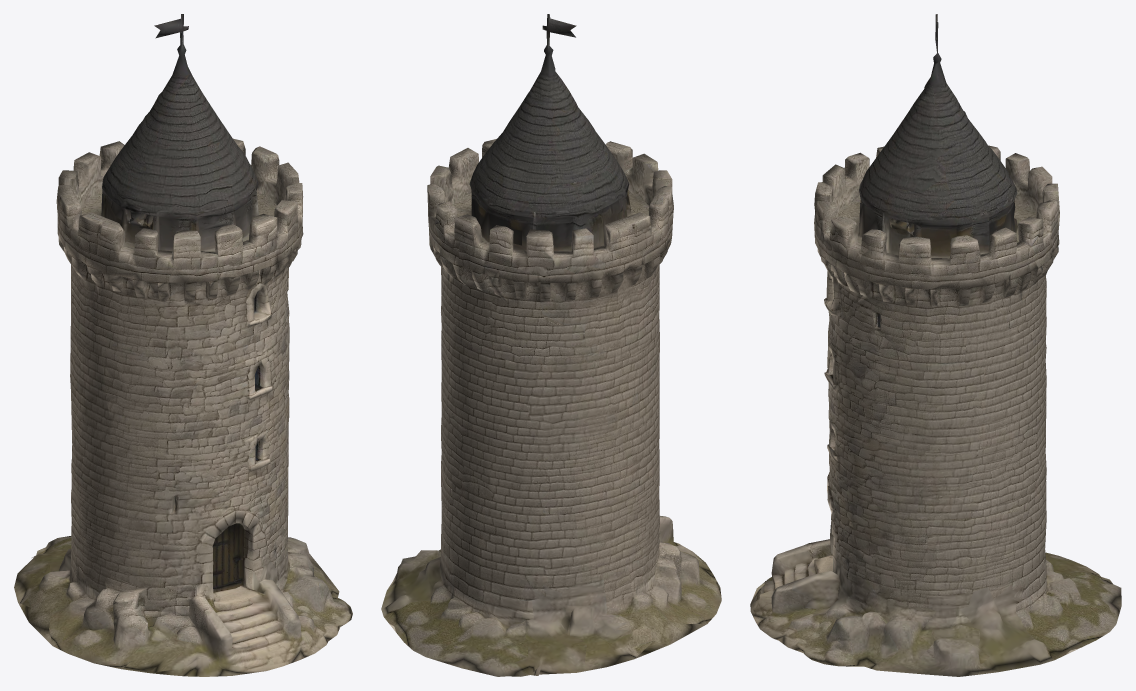
The model's file is poi_tower.glb.
3 views of the same model, side by side, from view 1: azimuth 30°, elevation 25°; view 2: azimuth 150°, elevation 25°; view 3: azimuth 270°, elevation 25° (orthographic).
Parts seen in each view (by area): view 1: Mesh_0; view 2: Mesh_0; view 3: Mesh_0.
Part boxes in pixels (x1,y1,x2,y2): Mesh_0: (14,14,352,676); Mesh_0: (381,14,721,676); Mesh_0: (750,14,1121,676).
Bounding box in the file's own units: 0.9659 × 1.9 × 1.09.
1 material, 1 textured.
